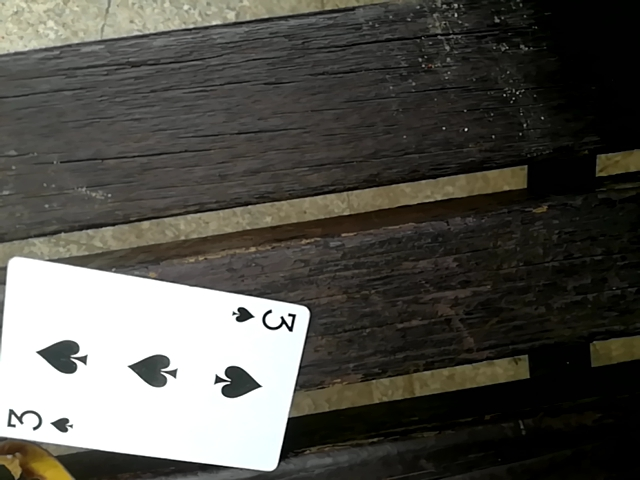ht 3: (0, 253, 312, 472)
